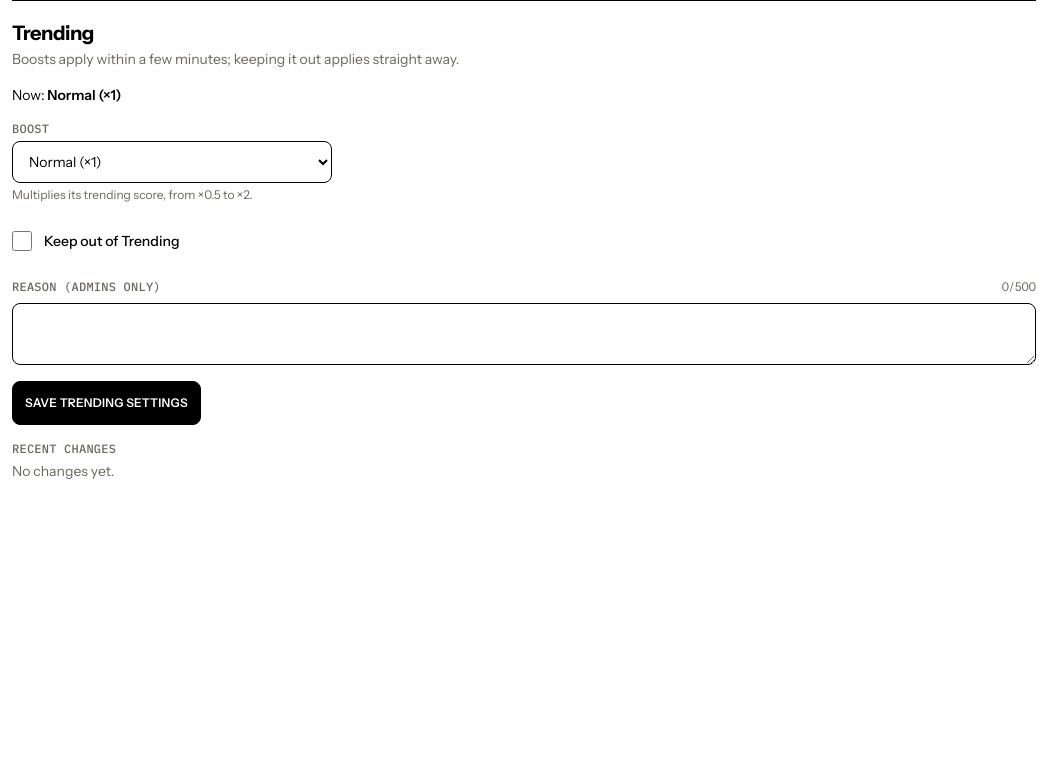
Test case: TrendingPanel › shows the current boost and lets an admin change it with a reason
Expected: the text "Now: Normal (×1)" is shown, [12,86,122,104]
Expected: the text "No changes yet." is shown, [12,462,114,480]
Select "More (×1.5)" in the dropdown labelled "Boost": (172, 162) [12,141,332,183]
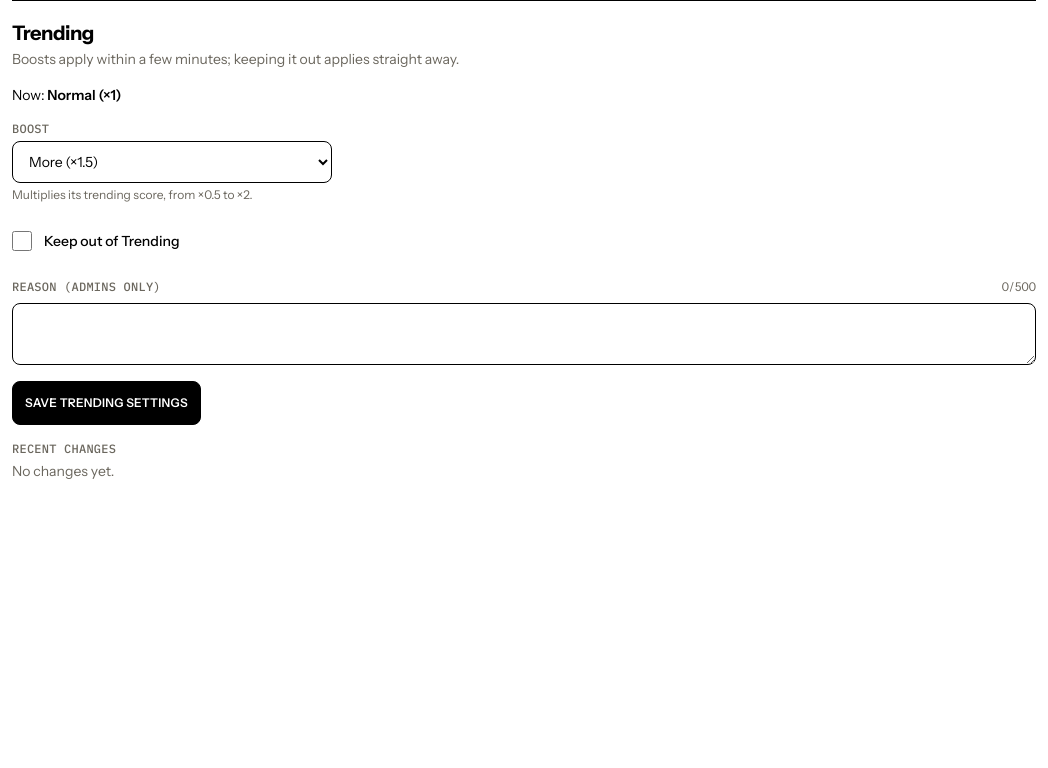
Click the button "Save Trending settings": (106, 403) [12,381,201,425]
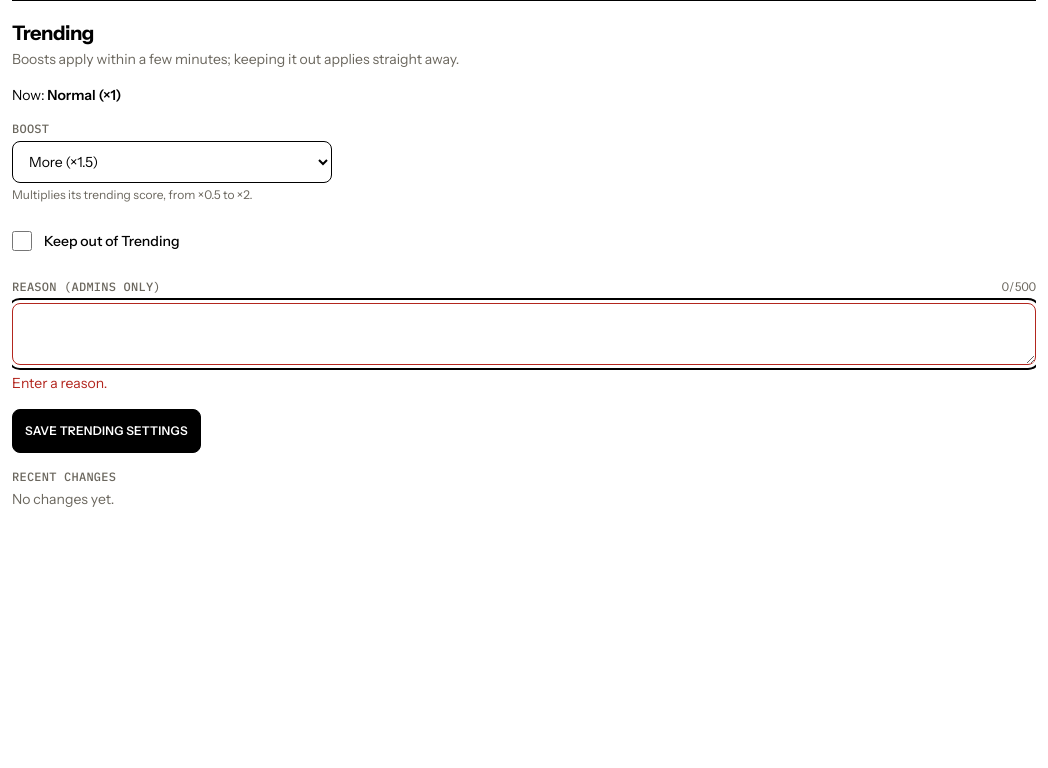
In the text box labelled "Reason (admins only)": (524, 334) [12,303,1036,365], type "Local favourite"
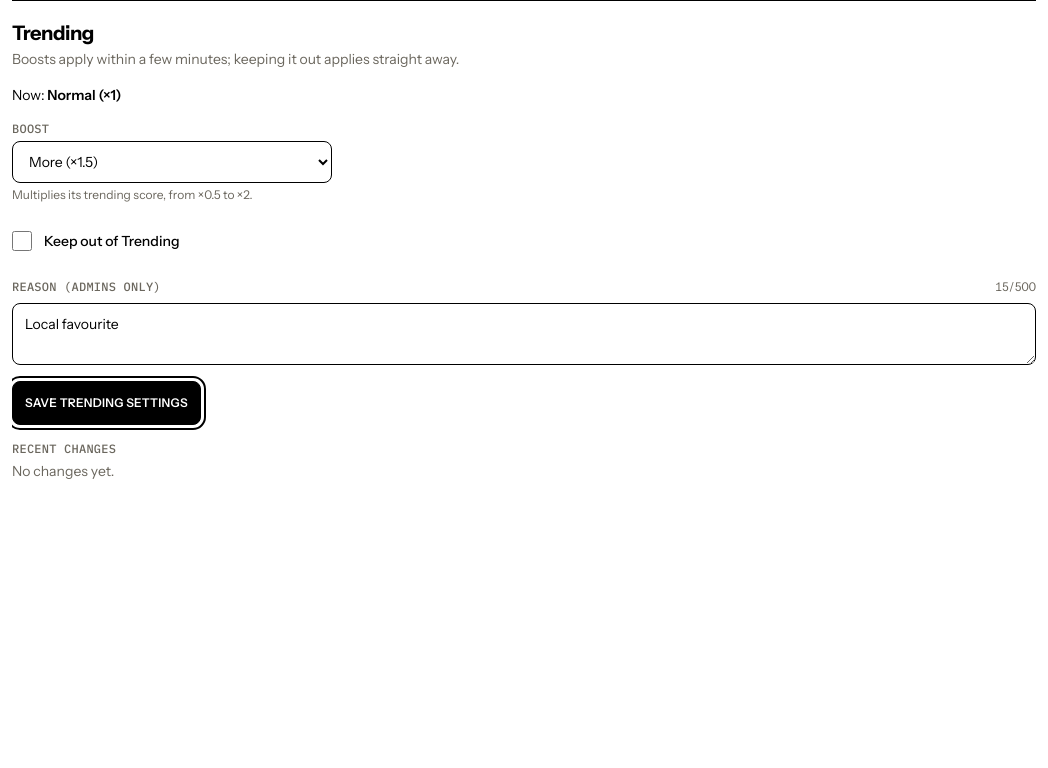
Click the button "Save Trending settings": (106, 403) [12,381,201,425]
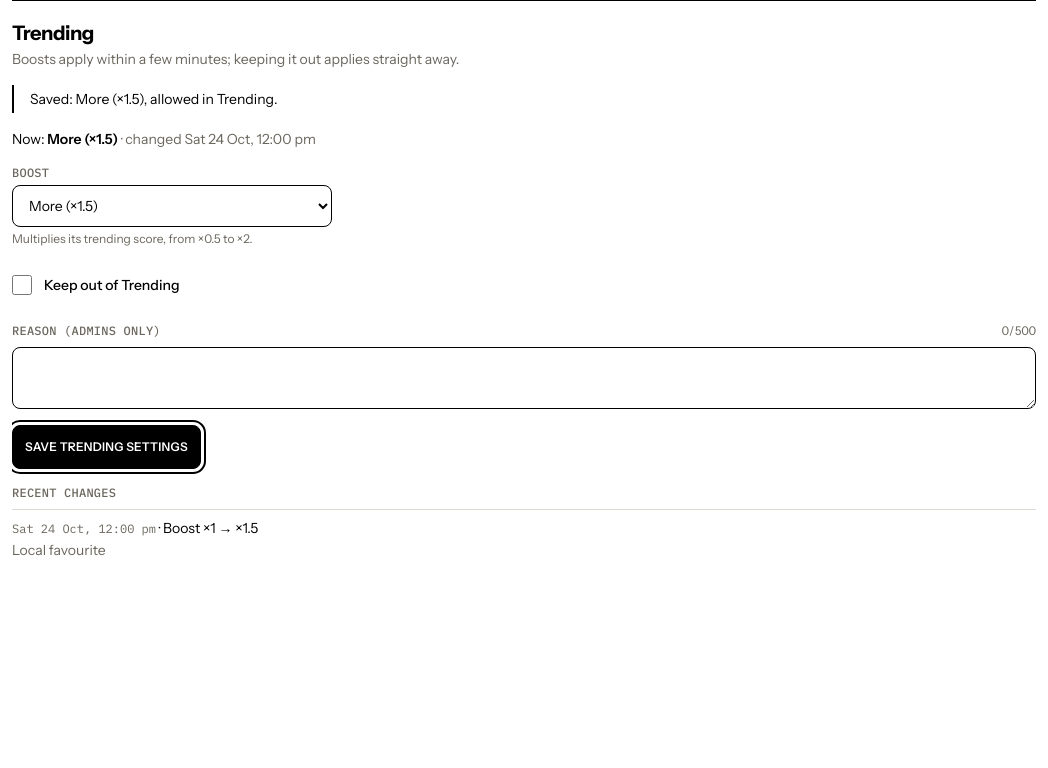
Expected: the message reads "Saved: More (×1.5), allowed in Trending.", [30,90,278,108]
Expected: the text "Sat 24 Oct, 12:00 pm · Boost ×1 → ×1.5" is shown, [12,519,258,537]
Expected: the text "Local favourite" is shown, [12,541,106,559]
